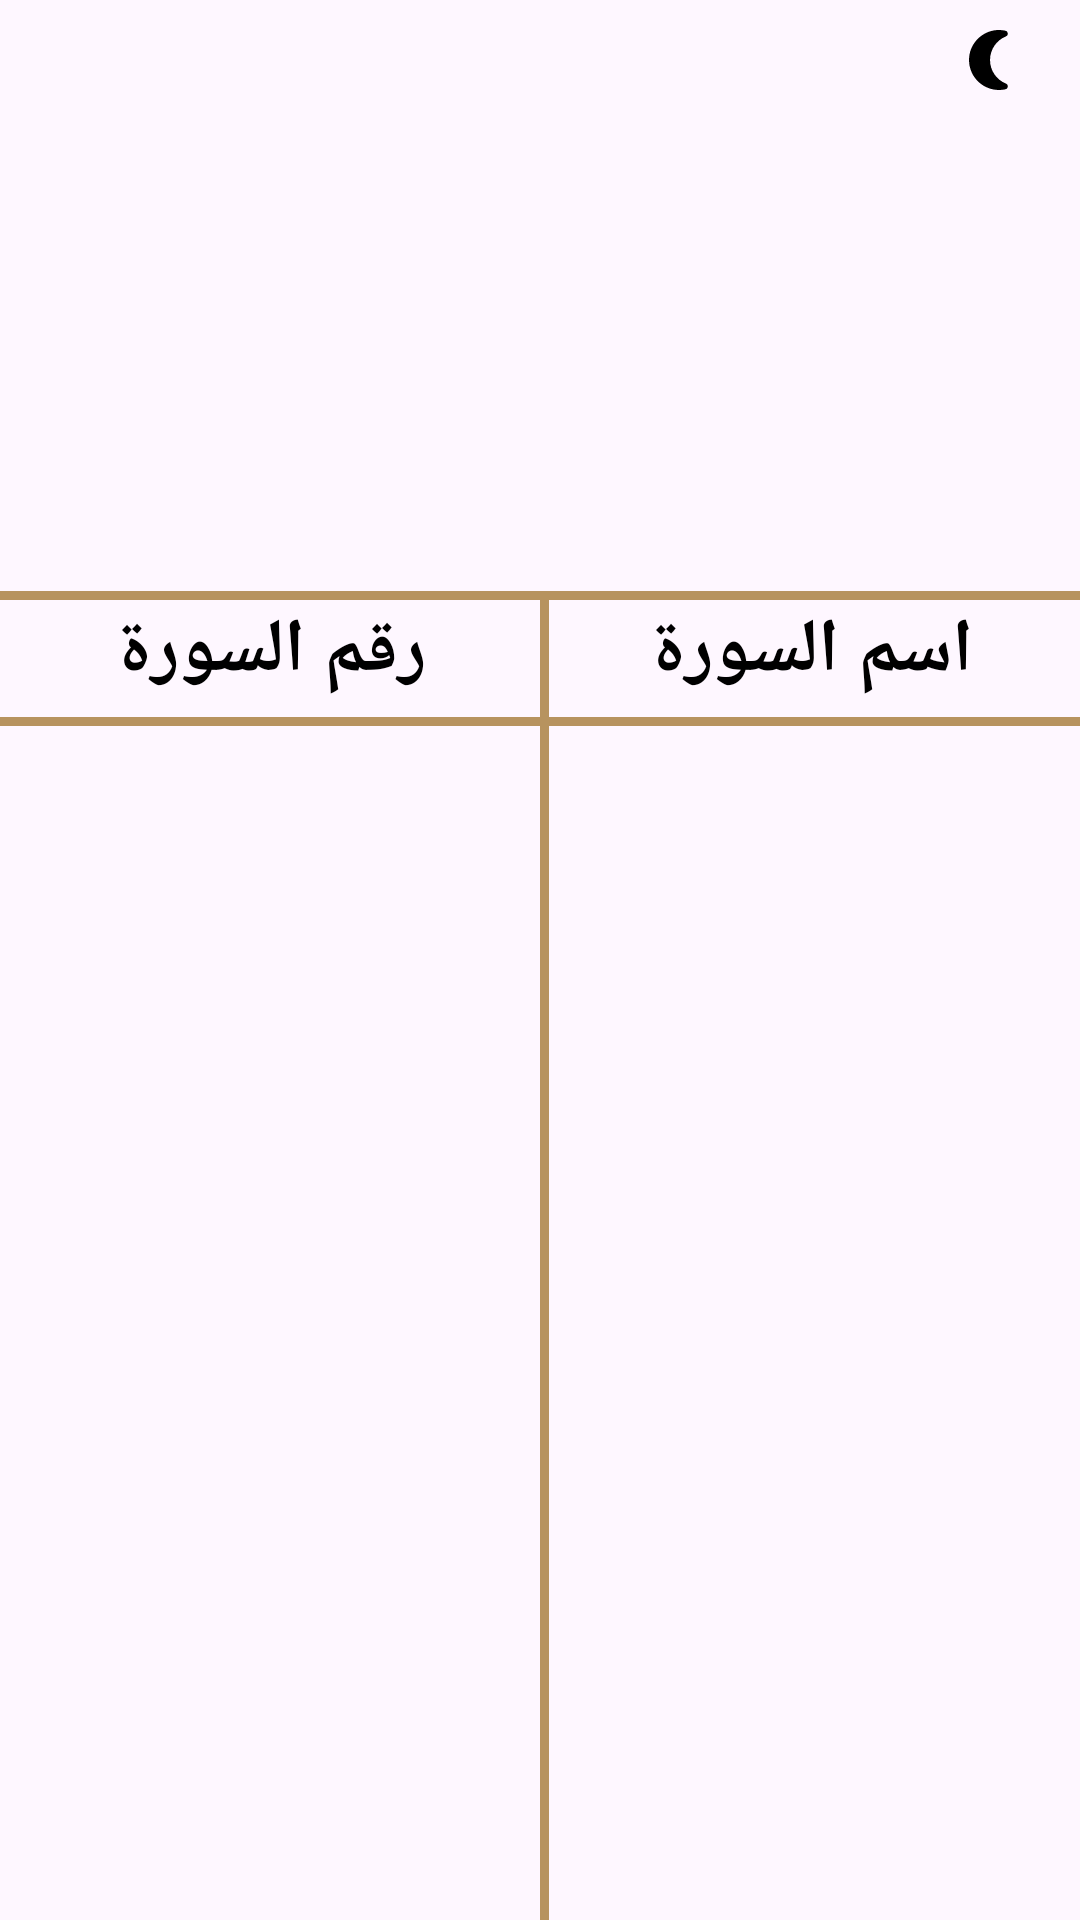

Point at icon controls on the screen. Image size 1080 x 1920, points as (x,y).
nightlight round: (988,60)
